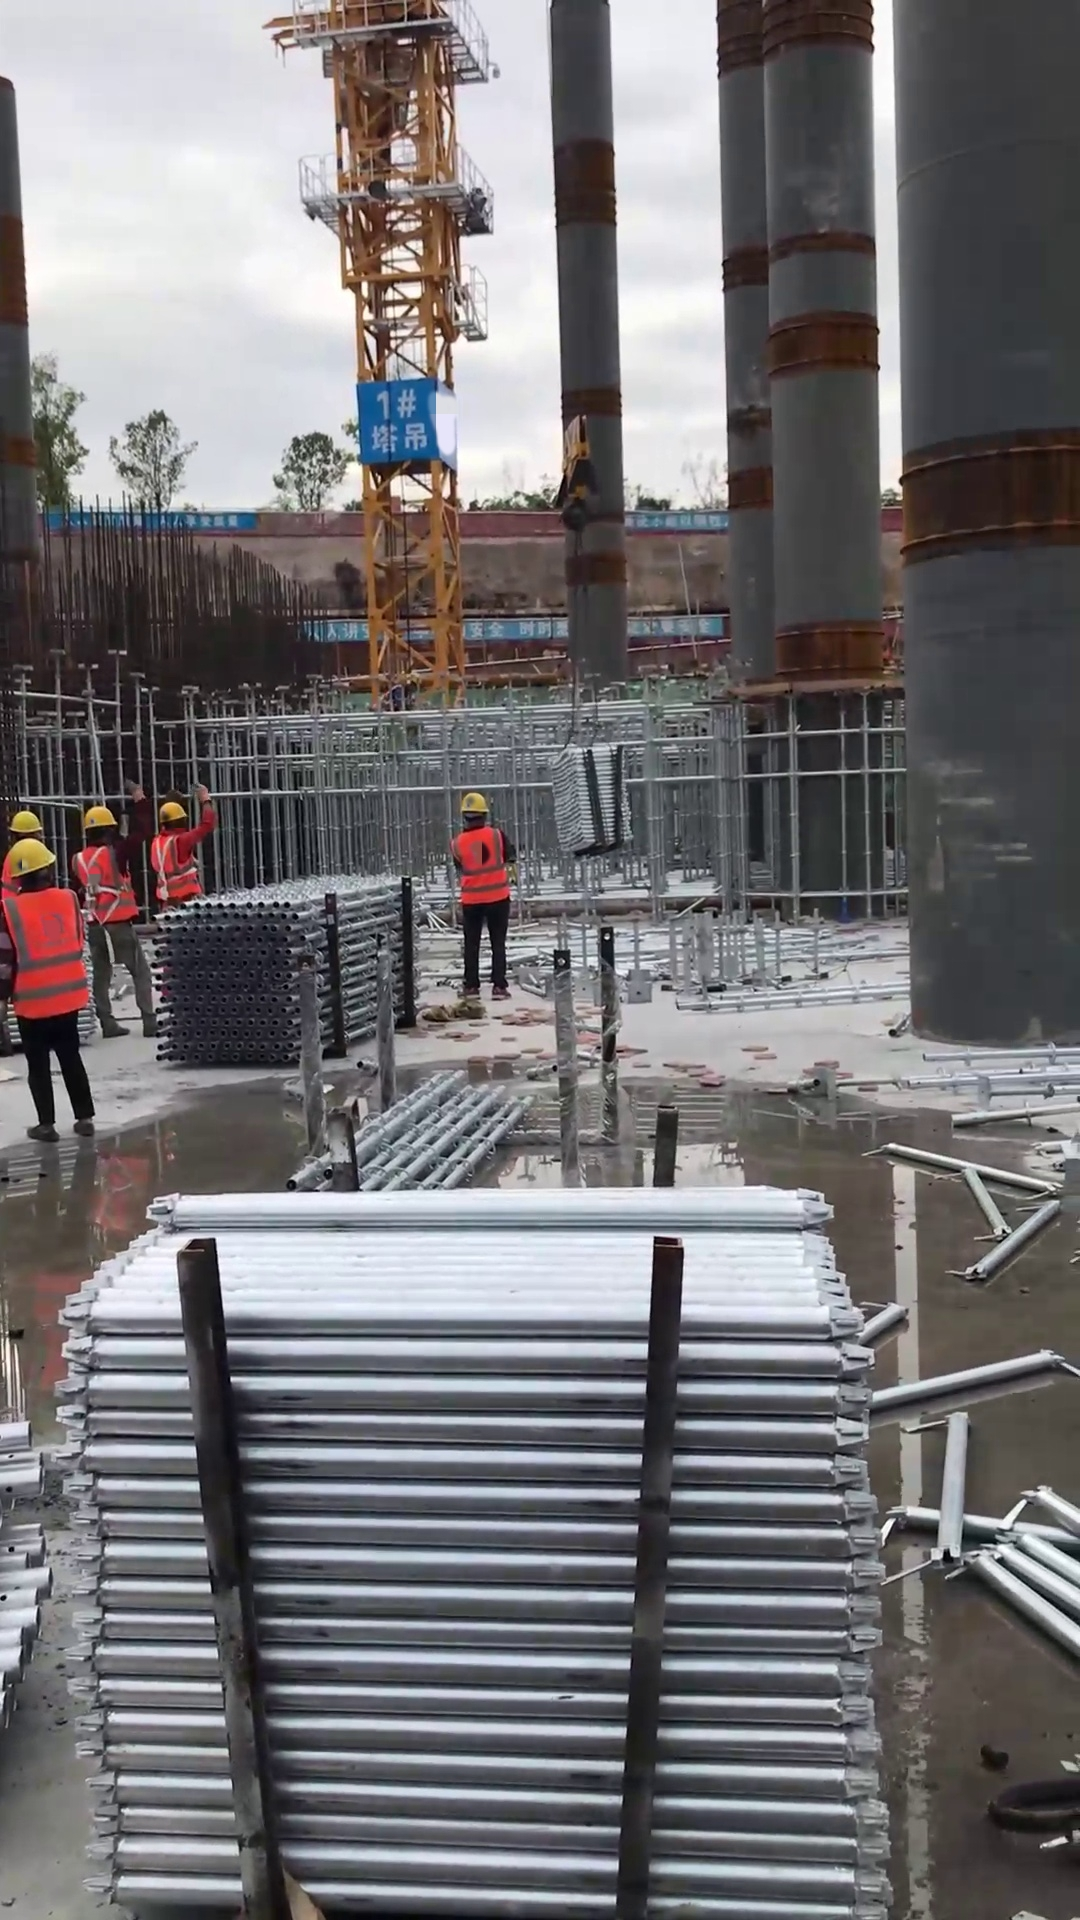helmet: (7, 837, 59, 879), (81, 804, 117, 833), (7, 807, 42, 836), (459, 790, 490, 821), (158, 800, 189, 827)
hook: (551, 408, 601, 535)
person: (1, 835, 98, 1142), (70, 778, 159, 1040), (448, 789, 521, 1003), (148, 779, 217, 911)
scaffold: (56, 1182, 902, 1920), (149, 872, 428, 1068), (282, 1067, 538, 1191), (546, 743, 636, 854)
slogan: (306, 612, 724, 638), (356, 377, 444, 465), (43, 508, 262, 534), (625, 509, 730, 535)
vest: (1, 885, 93, 1018), (68, 840, 139, 924), (448, 823, 512, 904), (147, 831, 202, 904)
